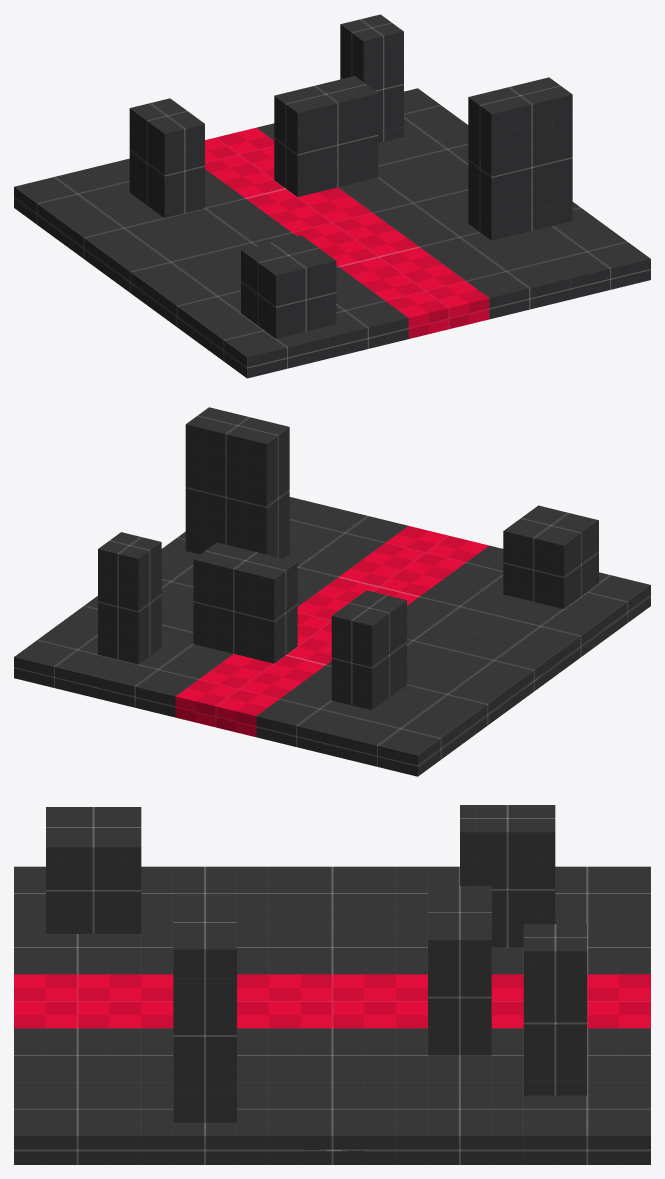
Rendered from level.glb.
3 renders of one model, top to bottom at view 1: azimuth 30°, elevation 25°; view 2: azimuth 150°, elevation 25°; view 3: azimuth 270°, elevation 25°, orthographic. The views are drawn at different scales.
Parts seen in each view (by area): view 1: Anvil.Box.001, Anvil.Box.008, Anvil.Box.009, Anvil.Box.006, Anvil.Box.004, Anvil.Box.002, Anvil.Box.005, Anvil.Box.007; view 2: Anvil.Box.001, Anvil.Box.008, Anvil.Box.009, Anvil.Box.006, Anvil.Box.004, Anvil.Box.002, Anvil.Box.005, Anvil.Box.007; view 3: Anvil.Box.008, Anvil.Box.001, Anvil.Box.009, Anvil.Box.006, Anvil.Box.002, Anvil.Box.007, Anvil.Box.005, Anvil.Box.004.
Part boxes in pixels (x1=…): Anvil.Box.001: x1=14, y1=158, x2=408, y2=378; Anvil.Box.008: x1=257, y1=88, x2=650, y2=319; Anvil.Box.009: x1=205, y1=127, x2=489, y2=338; Anvil.Box.006: x1=468, y1=77, x2=572, y2=240; Anvil.Box.004: x1=274, y1=76, x2=378, y2=196; Anvil.Box.002: x1=241, y1=235, x2=336, y2=338; Anvil.Box.005: x1=129, y1=98, x2=204, y2=217; Anvil.Box.007: x1=340, y1=14, x2=403, y2=143; Anvil.Box.001: x1=256, y1=545, x2=650, y2=776; Anvil.Box.008: x1=14, y1=497, x2=408, y2=717; Anvil.Box.009: x1=175, y1=526, x2=488, y2=736; Anvil.Box.006: x1=185, y1=407, x2=289, y2=558; Anvil.Box.004: x1=193, y1=542, x2=297, y2=663; Anvil.Box.002: x1=503, y1=505, x2=598, y2=608; Anvil.Box.005: x1=331, y1=590, x2=406, y2=710; Anvil.Box.007: x1=98, y1=532, x2=161, y2=664; Anvil.Box.008: x1=14, y1=1028, x2=650, y2=1164; Anvil.Box.001: x1=14, y1=866, x2=650, y2=974; Anvil.Box.009: x1=14, y1=974, x2=650, y2=1028; Anvil.Box.006: x1=173, y1=895, x2=236, y2=1122; Anvil.Box.002: x1=46, y1=807, x2=141, y2=933; Anvil.Box.007: x1=523, y1=924, x2=587, y2=1095; Anvil.Box.005: x1=460, y1=805, x2=555, y2=947; Anvil.Box.004: x1=428, y1=886, x2=491, y2=1055.
Bounding box in the file's own units: 20 × 7 × 20.
Materials: 2 (2 with a texture image).
